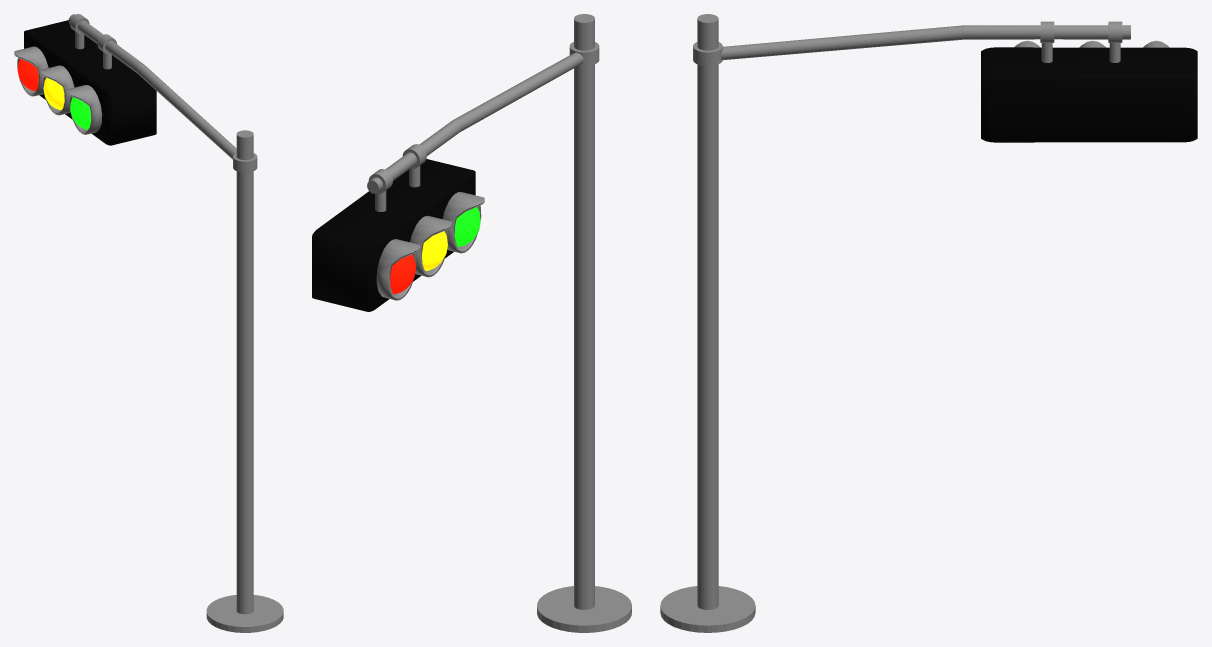
The model's file is trafficLight.fbx.
3 views of the same model, side by side, from view 1: azimuth 30°, elevation 25°; view 2: azimuth 150°, elevation 25°; view 3: azimuth 270°, elevation 25° (orthographic). The views are drawn at different scales.
Visible parts, largest first — view 1: Cylinder.001; view 2: Cylinder.001; view 3: Cylinder.001.
Boxes of the visible parts, x1,y1,x2,y2 form: Cylinder.001: [14, 14, 283, 632]; Cylinder.001: [312, 14, 631, 632]; Cylinder.001: [660, 14, 1197, 632].
Bounding box in the file's own units: 281 × 1602 × 1313.
